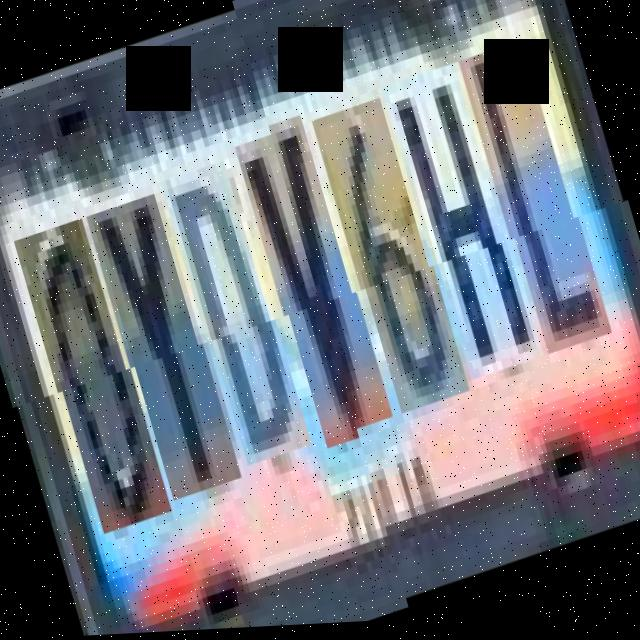6: (318, 105, 472, 431)
D: (165, 157, 312, 471)
H: (388, 71, 547, 398)
L: (466, 49, 614, 372)
O: (18, 214, 172, 538)
V: (239, 121, 395, 455)
Y: (90, 190, 242, 505)
